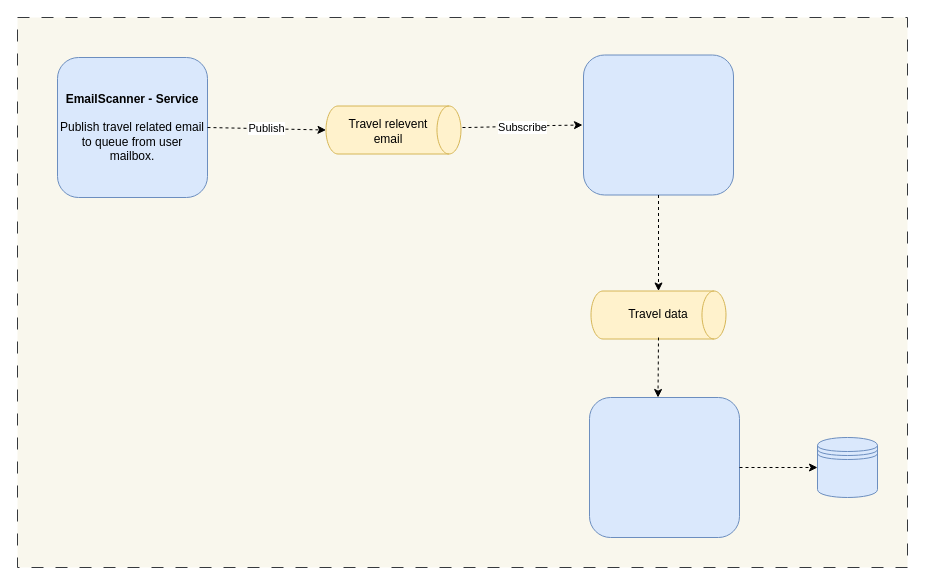
Image size: 925x585. Some labels were removed from this diagram. The centre of each missing label's shape, as x and y in pixels:
EmailParser - Service Extract data from email and publish to queue: (658,124)
UpdateMerger - Service Clean and unify travel data: (664,467)
